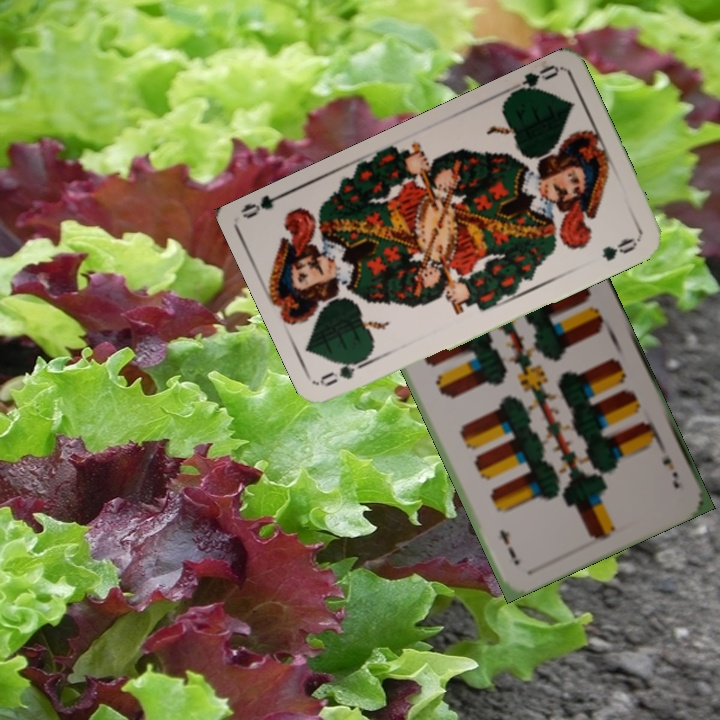E7: (654, 438, 682, 491)
GO: (503, 60, 561, 99), (317, 351, 375, 390)
